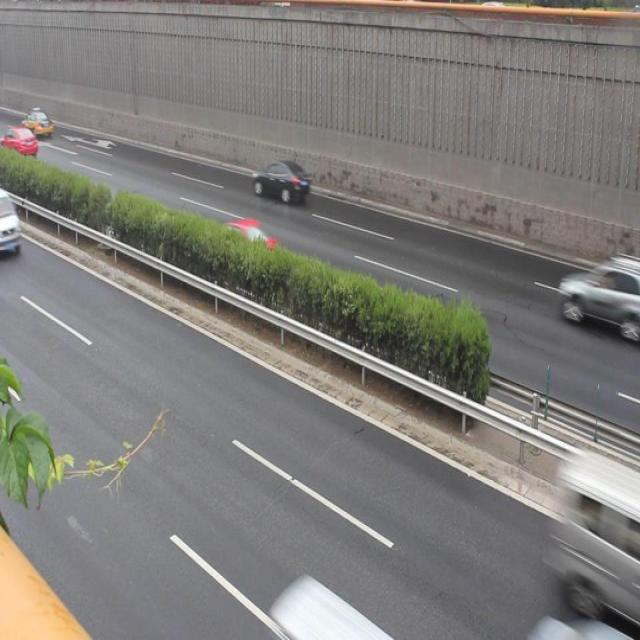car: (559, 250, 631, 332), (202, 214, 278, 279), (251, 158, 310, 206)
truck: (1, 190, 24, 258)
